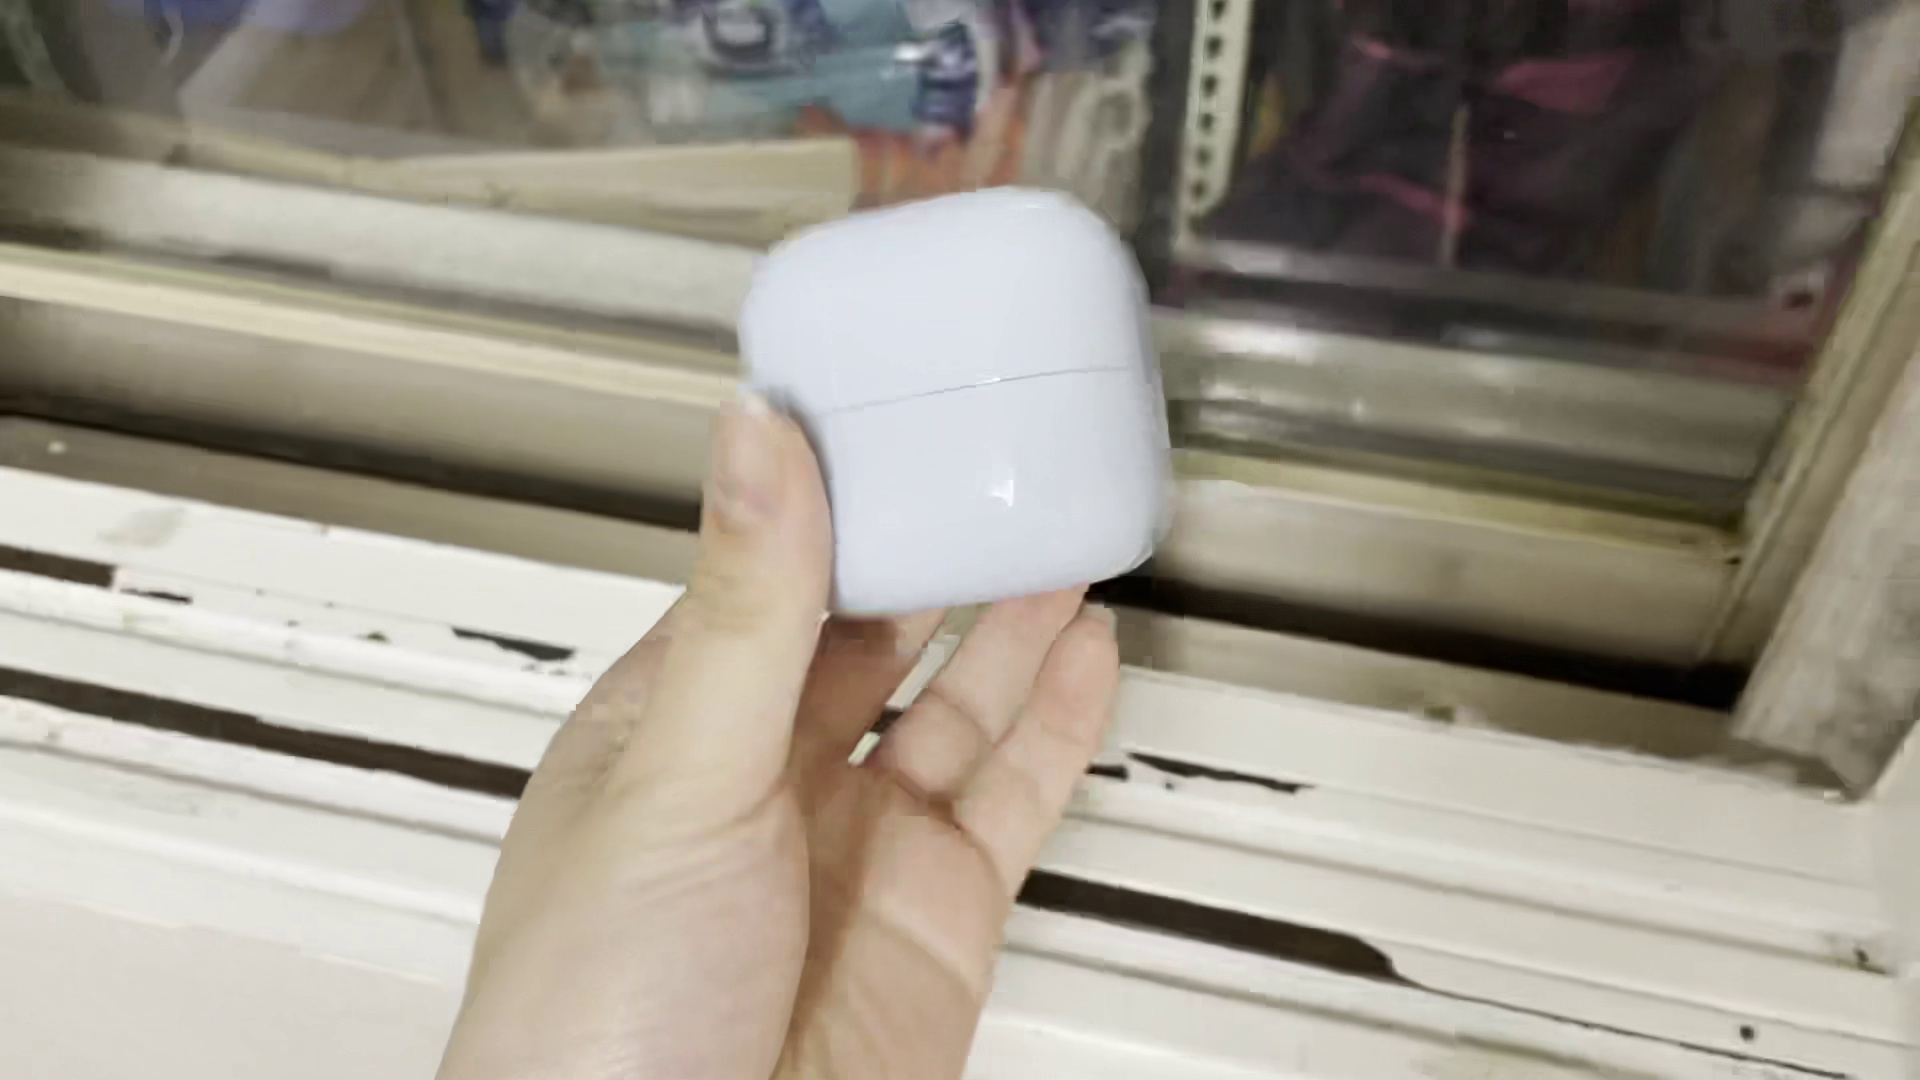cream: (740, 193, 1171, 605)
